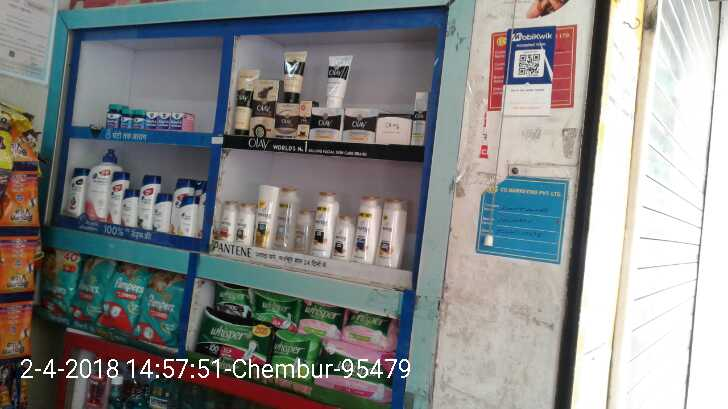vicks: (105, 103, 193, 131)
